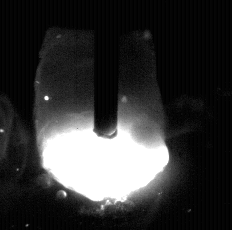arame: (95, 0, 119, 139)
poca: (36, 0, 166, 230)
